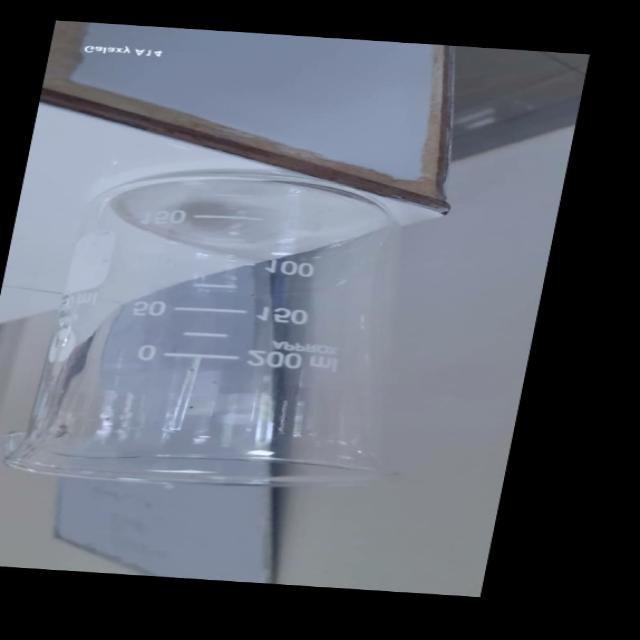Beakers: (0, 158, 467, 503)
